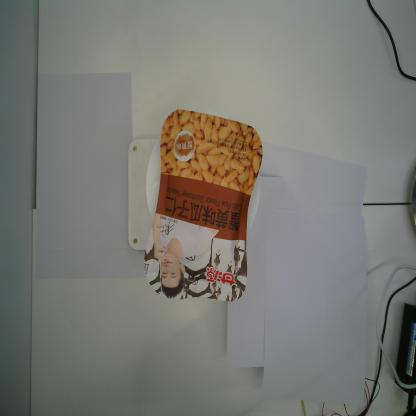Dried Fruit: (143, 109, 263, 301)
